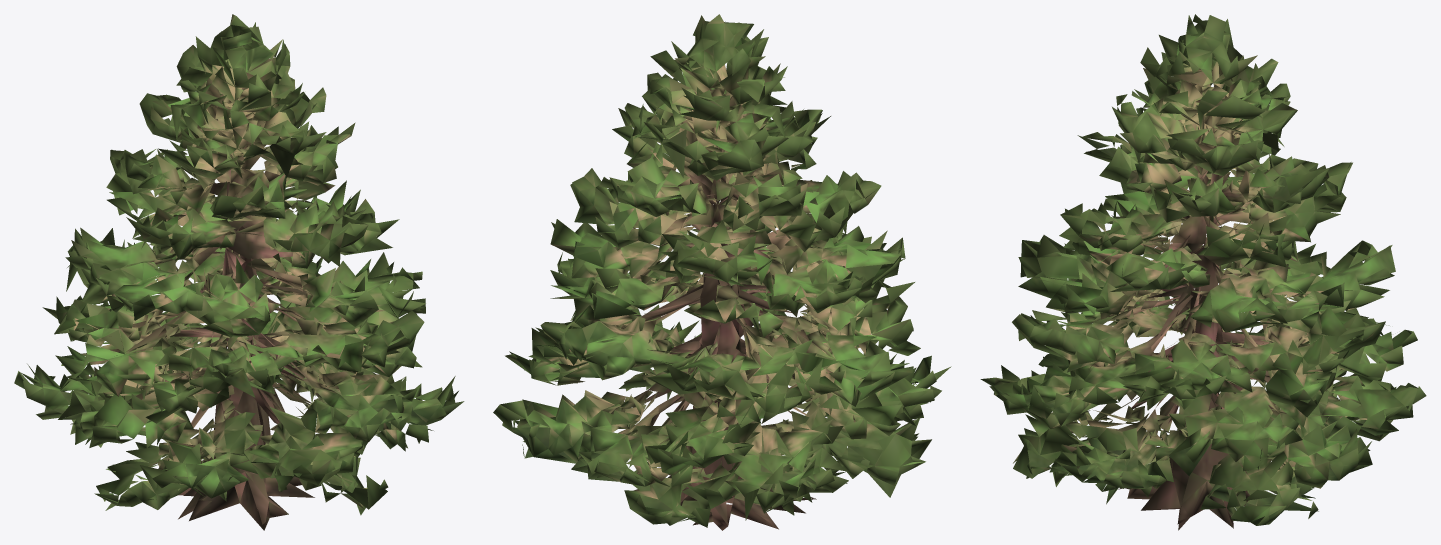
Rendered from World03c68813dd.glb.
3 renders of one model, left to right at view 1: azimuth 30°, elevation 25°; view 2: azimuth 150°, elevation 25°; view 3: azimuth 270°, elevation 25°, orthographic. The views are drawn at different scales.
Visible parts, largest first — view 1: World03c68813dd; view 2: World03c68813dd; view 3: World03c68813dd.
Boxes of the visible parts, box(x1,y1,x2,y2) form: World03c68813dd: box(14, 14, 464, 530); World03c68813dd: box(493, 14, 951, 530); World03c68813dd: box(980, 14, 1426, 530).
Size of the model in its own units: 3.48 by 4.53 by 3.79.
1 material, 1 textured.
